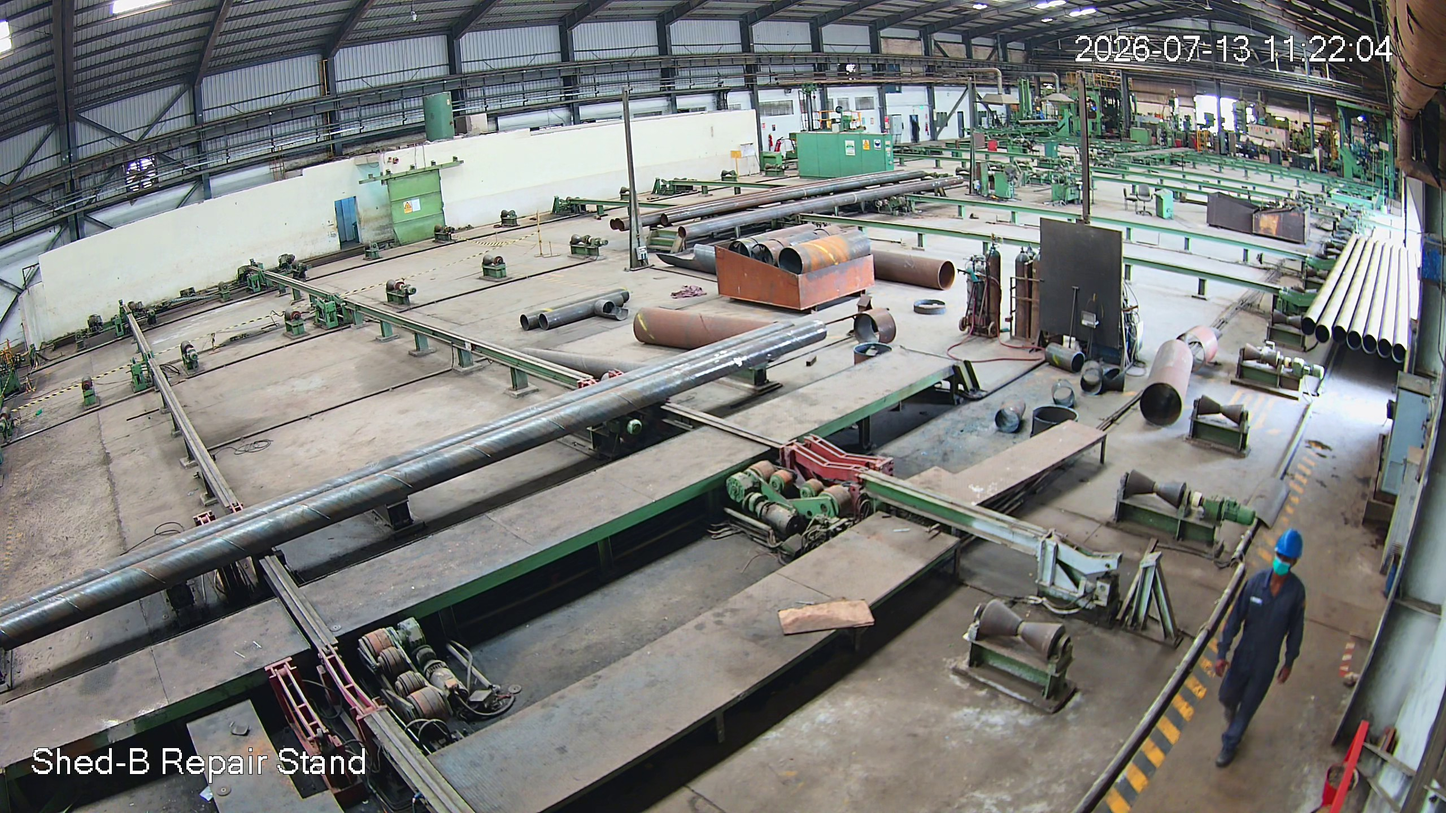Helmet: (1268, 524, 1308, 585)
Person: (1208, 529, 1316, 766)
